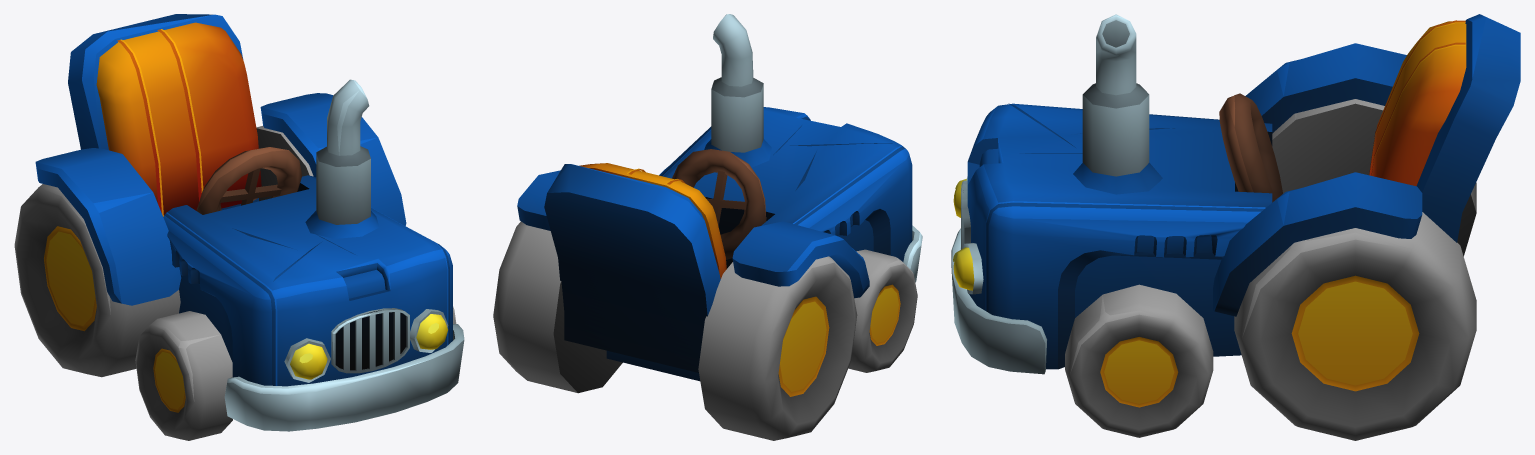
The model's file is truck_002.fbx.
3 views of the same model, side by side, from view 1: azimuth 30°, elevation 25°; view 2: azimuth 150°, elevation 25°; view 3: azimuth 270°, elevation 25° (orthographic). The views are drawn at different scales.
Parts seen in each view (by area): view 1: truck.002, truckwheel.005, truckwheel.004, trucktorus.002; view 2: truck.002, truckwheel.005, truckwheel.004, trucktorus.002; view 3: truck.002, truckwheel.005, truckwheel.009, trucktorus.002.
Part boxes in pixels (<box>): truck.002: <box>35,14,464,431</box>; truckwheel.005: <box>14,126,313,377</box>; truckwheel.004: <box>135,311,232,440</box>; trucktorus.002: <box>196,147,301,214</box>; truck.002: <box>517,14,922,381</box>; truckwheel.005: <box>493,221,857,440</box>; truckwheel.004: <box>848,249,917,372</box>; trucktorus.002: <box>672,149,766,259</box>; truck.002: <box>951,14,1520,374</box>; truckwheel.005: <box>1234,99,1476,440</box>; truckwheel.009: <box>1065,284,1213,437</box>; trucktorus.002: <box>1219,93,1282,202</box>.
Bounding box in the file's own units: 170 × 178 × 242.
Materials: 1 (1 with a texture image).
